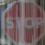Stop: (2, 3, 44, 42)
